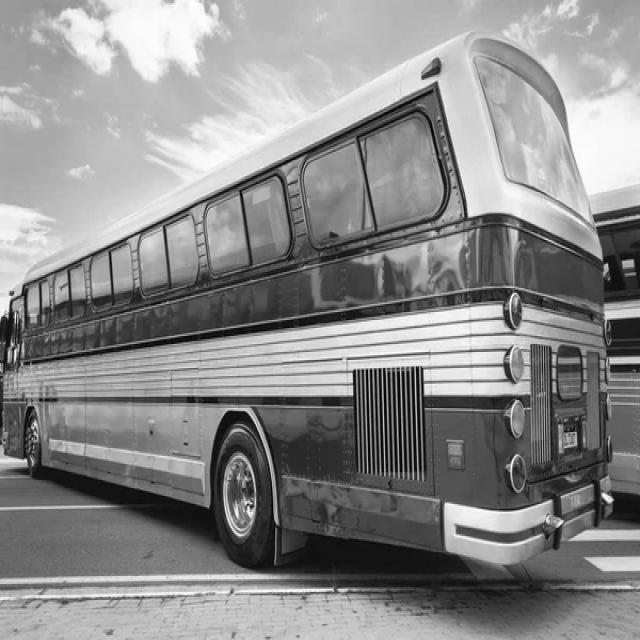Bus: (3, 30, 612, 568)
